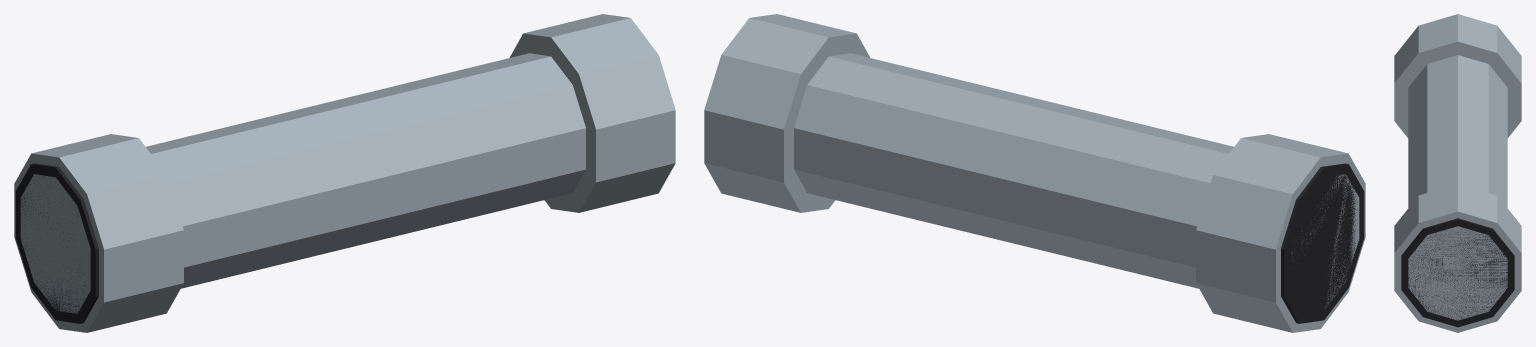
Rendered from conduit_nipple.obj.
3 views of the same model, side by side, from view 1: azimuth 30°, elevation 25°; view 2: azimuth 150°, elevation 25°; view 3: azimuth 270°, elevation 25° (orthographic). The views are drawn at different scales.
Size of the model in its own units: 0.254 by 0.072 by 0.0684.
